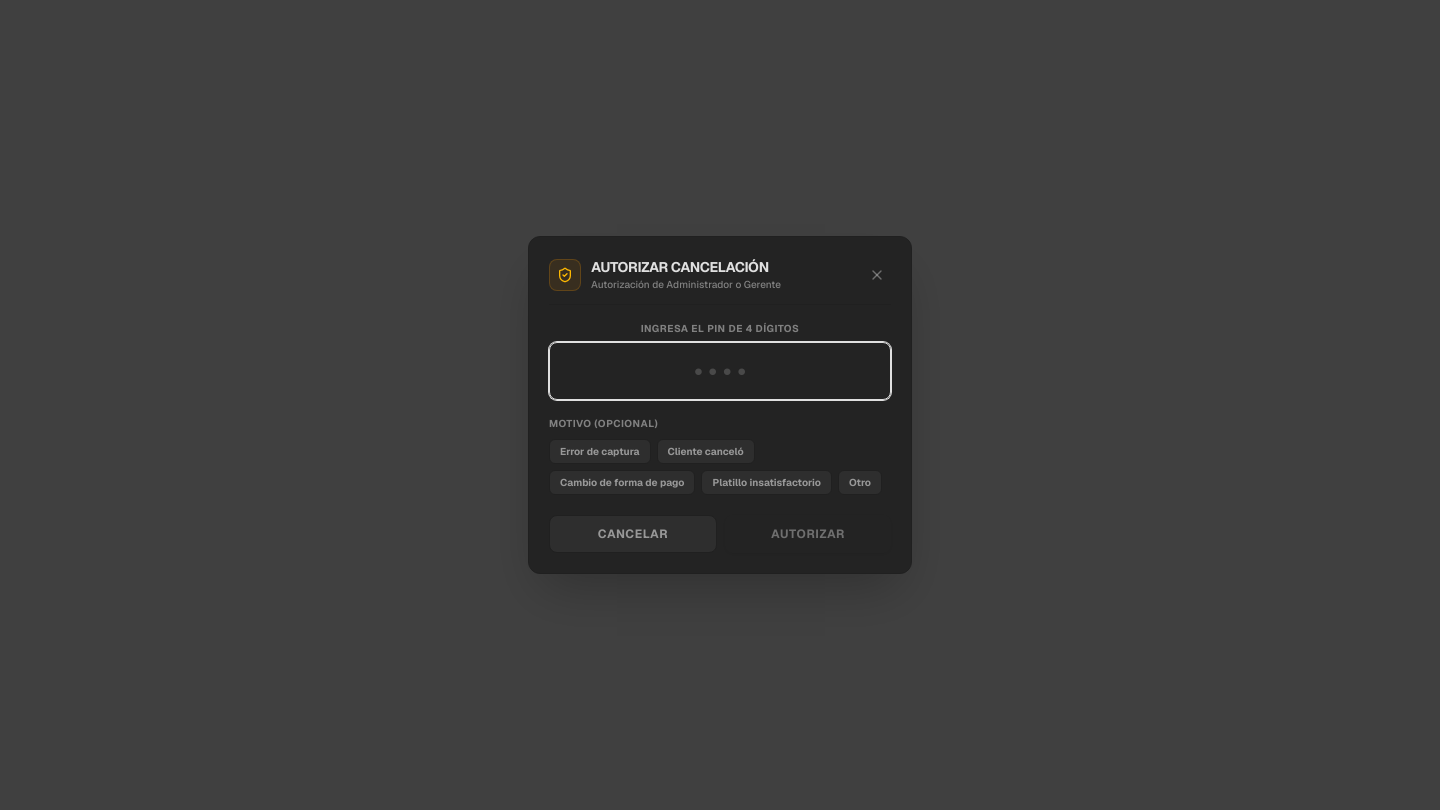
Test case: POSManagerAuthModal › displays error message if verify-pin returns invalid
In the password field with placeholder "••••": (720, 371) [549, 342, 891, 400], type "9999"
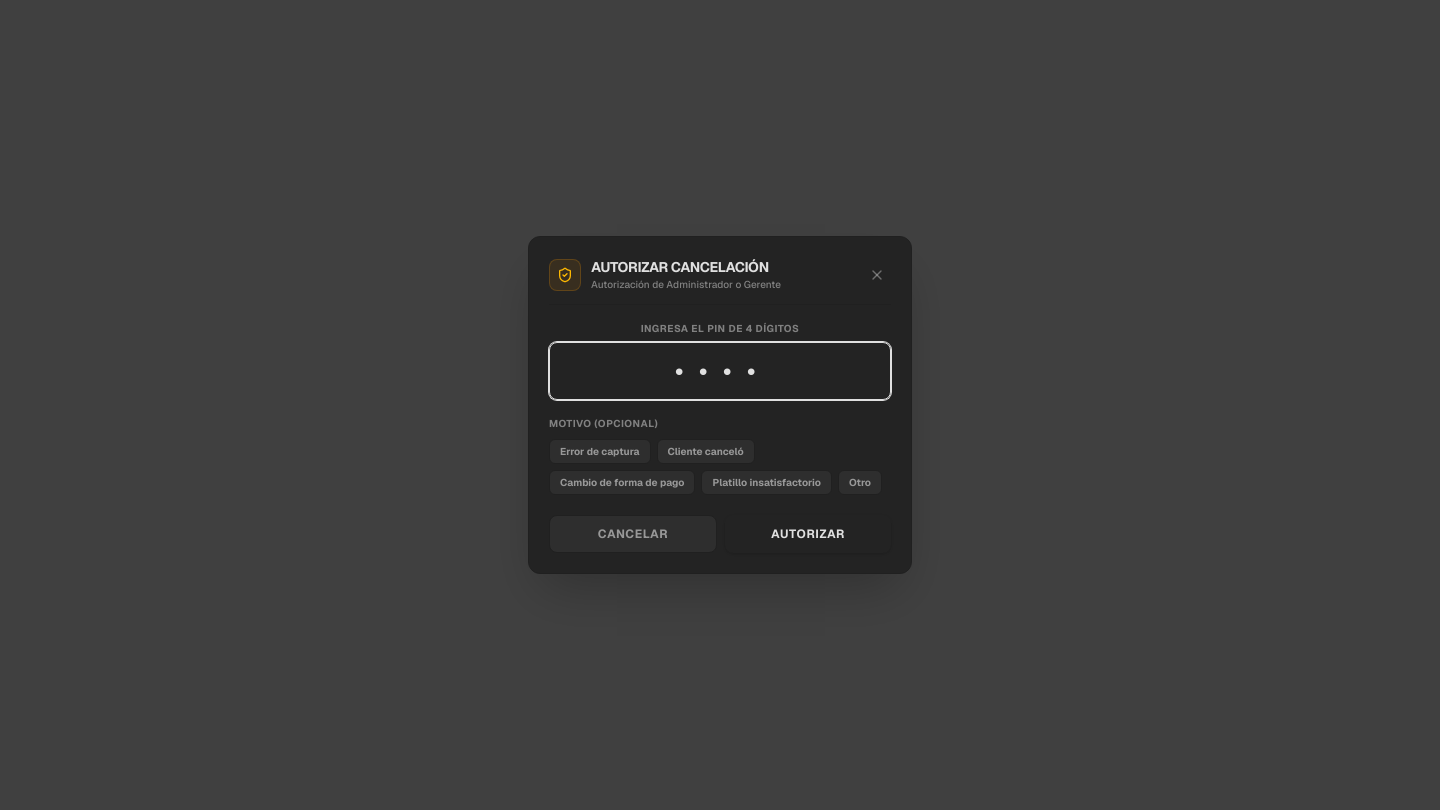
Click the button "Autorizar": (808, 534) [725, 515, 891, 553]
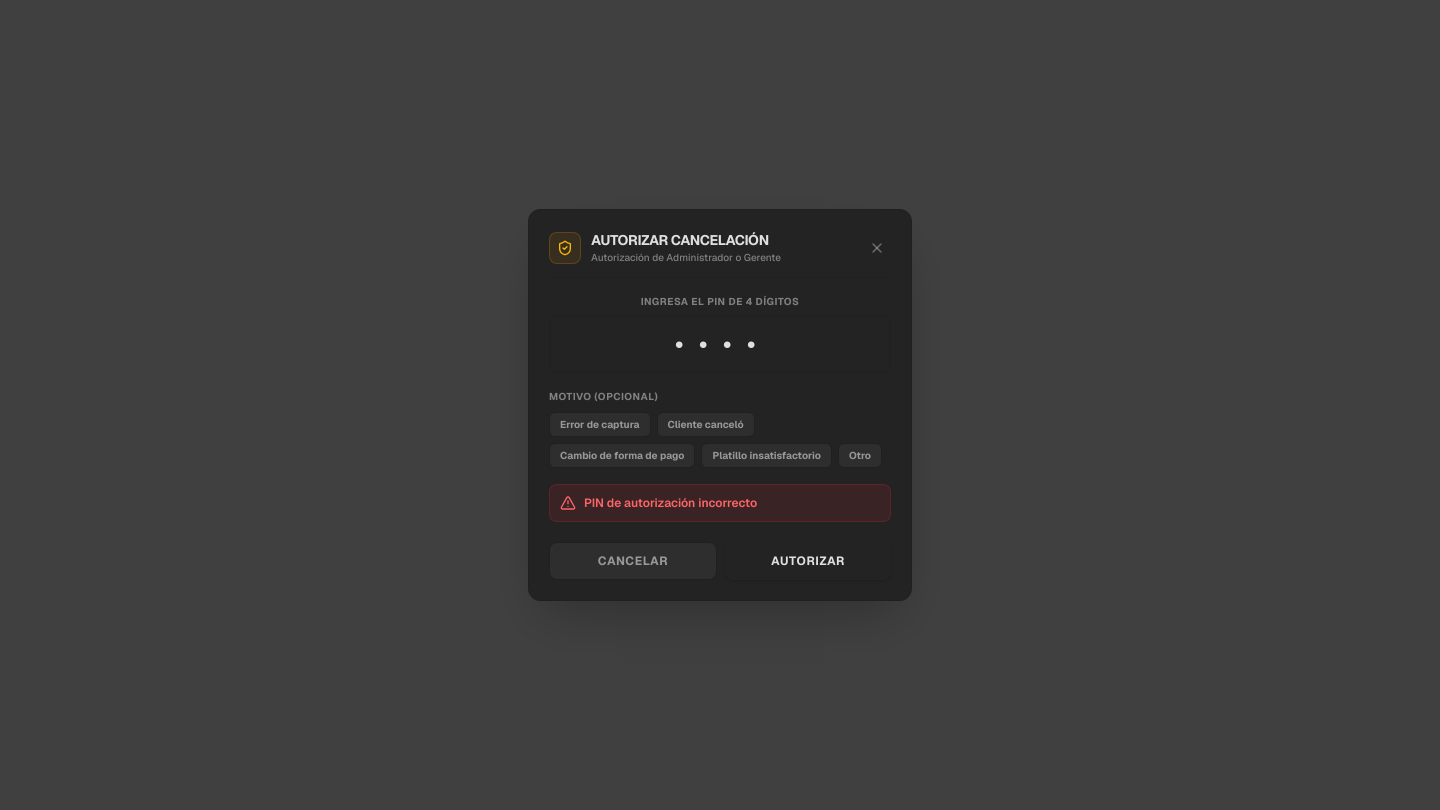
expect the text "PIN de autorización incorrecto" is shown: met, box [584, 495, 757, 511]
